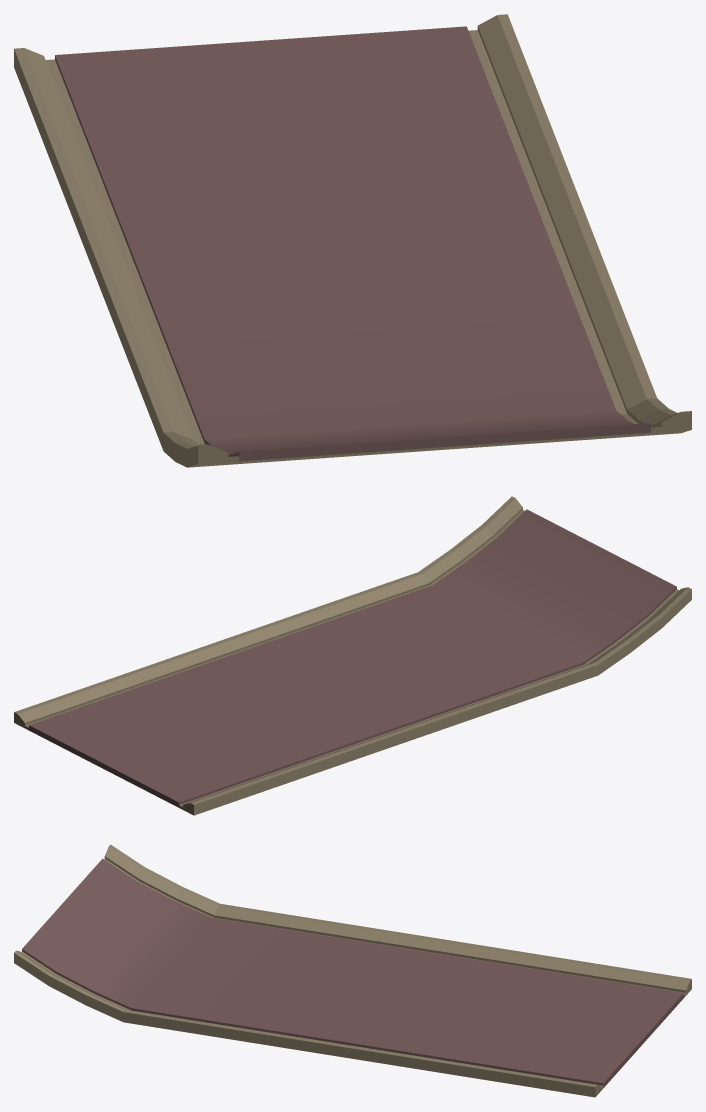
Rendered from Abkuerzung.fbx.
3 renders of one model, top to bottom at view 1: azimuth 30°, elevation 25°; view 2: azimuth 150°, elevation 25°; view 3: azimuth 270°, elevation 25°, orthographic. The views are drawn at different scales.
Visible parts, largest first — view 1: AbkuerzungSlalom; view 2: AbkuerzungSlalom; view 3: AbkuerzungSlalom.
Part boxes in pixels (x1,y1,x2,y2): AbkuerzungSlalom: [14, 14, 691, 467]; AbkuerzungSlalom: [14, 496, 691, 815]; AbkuerzungSlalom: [14, 844, 691, 1097].
Bounding box in the file's own units: 7207 × 872 × 10275.
